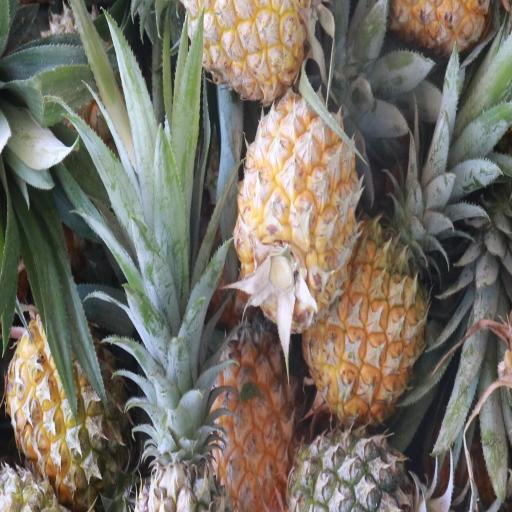------------------------------: (7, 300, 127, 492)
Pineapple - v8 v1: (237, 83, 356, 319), (308, 215, 428, 415), (208, 320, 298, 506)
